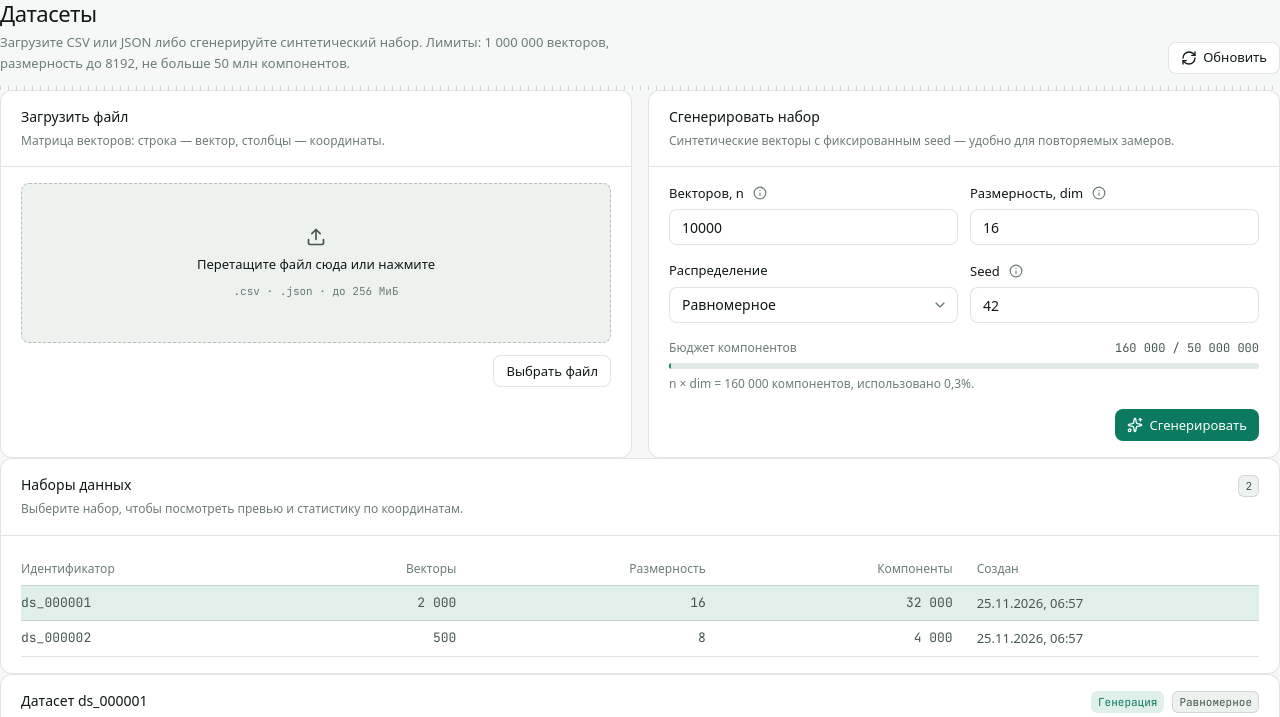
Scenario: DatasetPage › rejects generation with n = 0 before uploading
Check: the text "ds_000001" is shown, box [21,585,284,621]
Replace the text in the number field labelled "Векторов, n" with "0" at [814, 227], box [669,209,958,245]
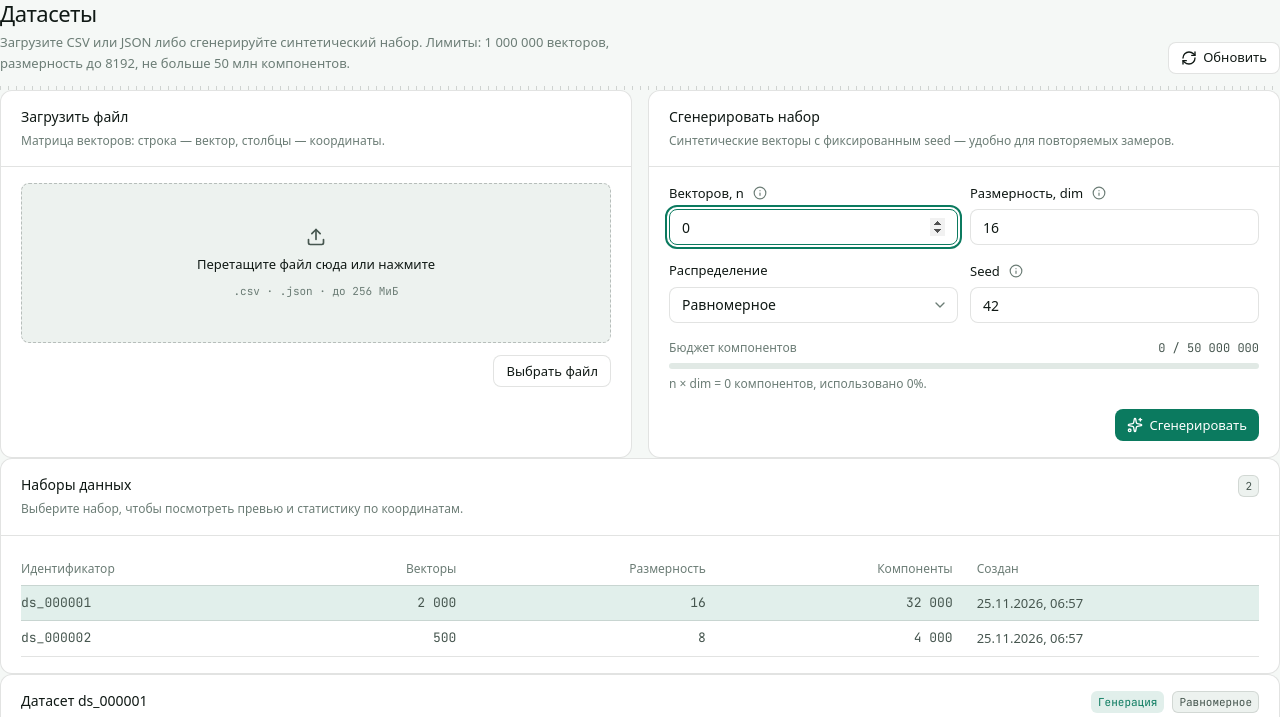
Click the button "Сгенерировать" at [1187, 425], box [1115,409,1259,441]
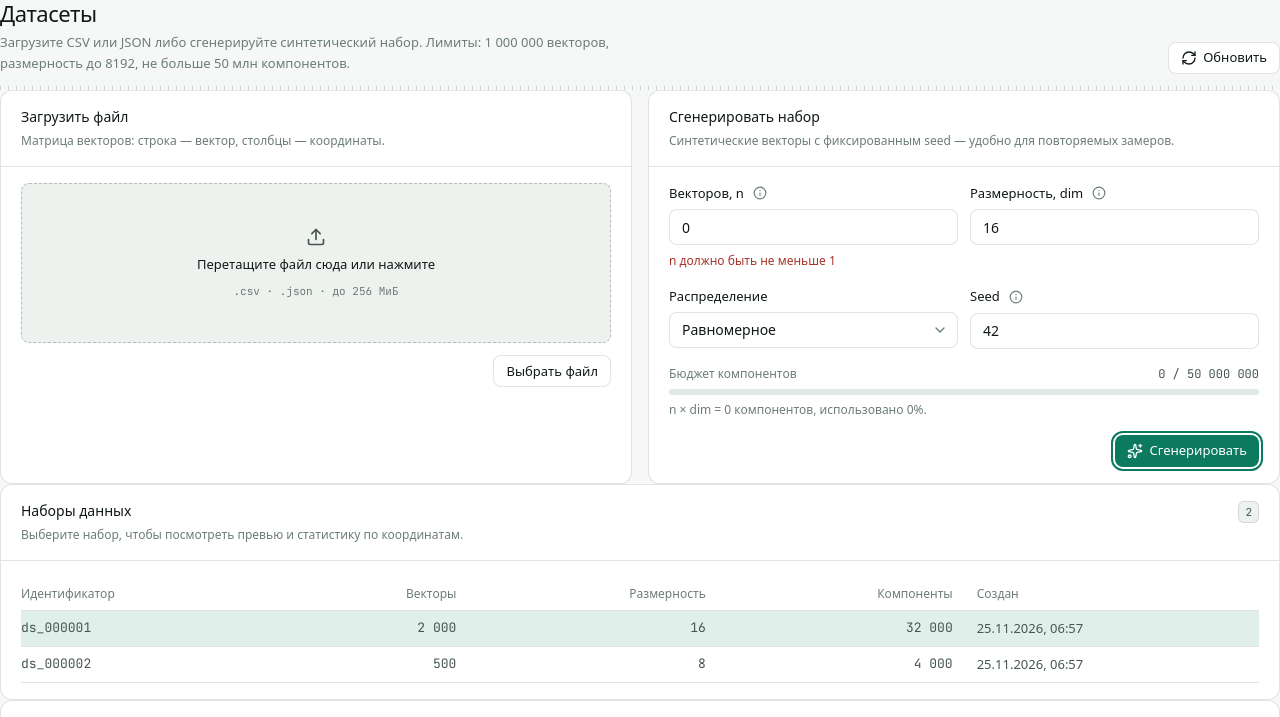
Check: the text "n должно быть не меньше 1" is shown, box [669,252,836,269]
